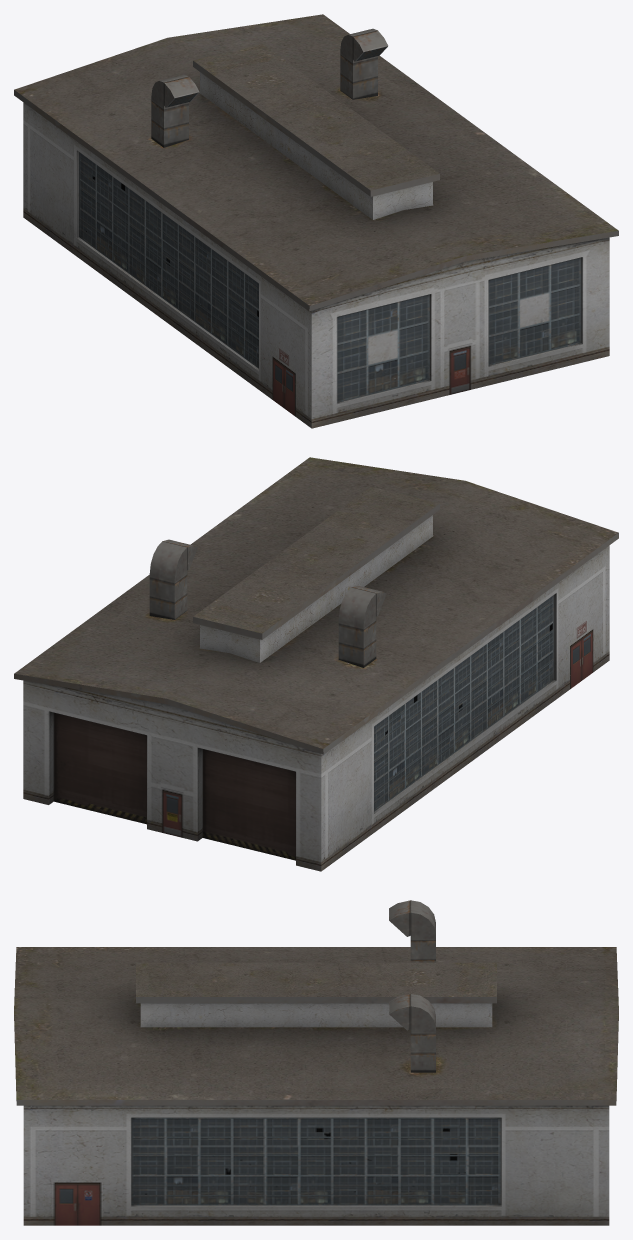
Rendered from locomotive-train-storage.glb.
3 views of the same model, one above another, from view 1: azimuth 30°, elevation 25°; view 2: azimuth 150°, elevation 25°; view 3: azimuth 270°, elevation 25° (orthographic).
Visible parts, largest first — view 1: 3LOD0; view 2: 3LOD0; view 3: 3LOD0.
Part boxes in pixels (x1,y1,x2,y2): 3LOD0: (14, 14, 618, 428); 3LOD0: (14, 457, 618, 871); 3LOD0: (14, 900, 618, 1225).
Size of the model in its own units: 16.34 by 9.89 by 27.22.
1 material, 1 textured.
